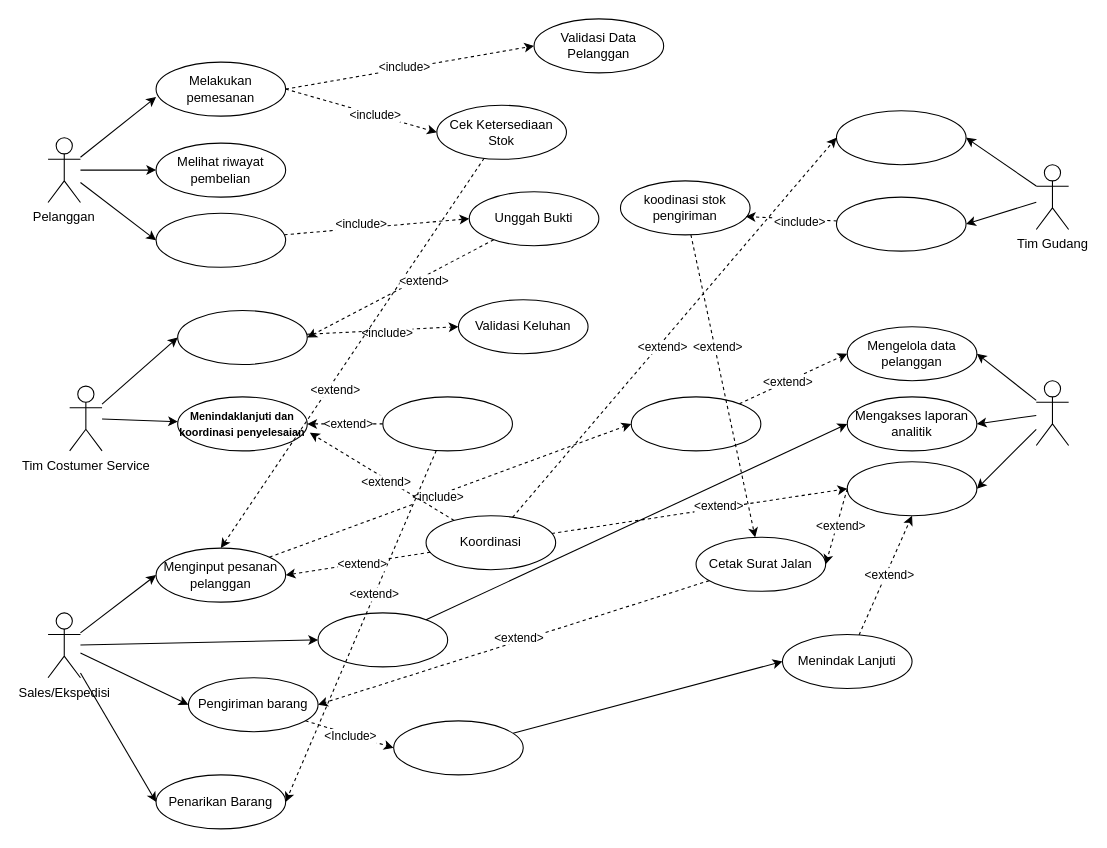
The diagram is 1107 pixels wide and 848 high, and some of its shapes have lost their labels. The shapes that lost their labels are listed below. From the top down, each one's centre as x and y in pixels, then its label:
[900,137]: Mengelola stok dan penyimpanan
[220,239]: Mengajukan keluhan
[900,223]: Menyiapkan pengiriman
[242,336]: Mencatat keluhan pelanggan
[447,423]: Melakukan Tindak Lanjut
[695,423]: Cek Data Pelanggan
[1052,413]: Admin
[911,488]: Pengelola Stok
[382,639]: Melaporkan feedback pelanggan
[458,747]: Bon Pengeluaran/Penarikan
